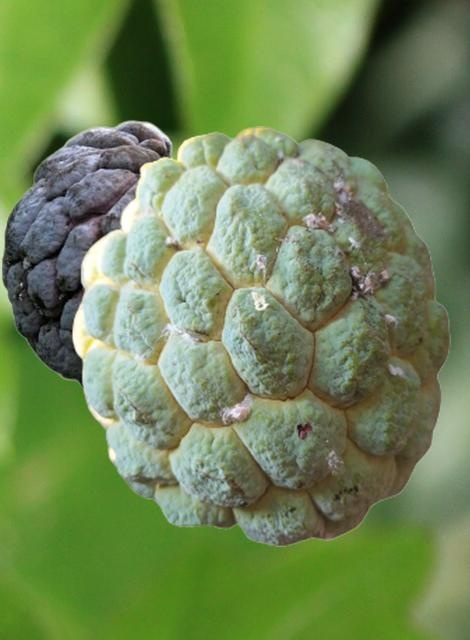atis: (71, 126, 449, 545), (1, 119, 175, 390)
